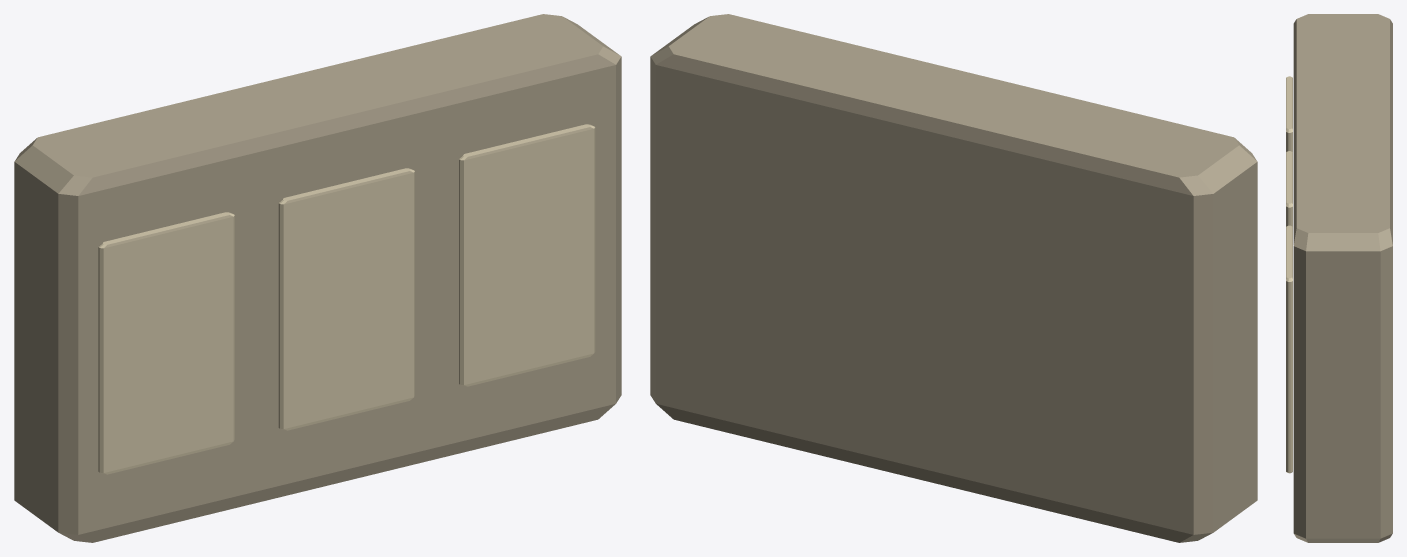
Rendered from SM_RUI_MOD_002_Wall2m.glb.
3 renders of one model, left to right at view 1: azimuth 30°, elevation 25°; view 2: azimuth 150°, elevation 25°; view 3: azimuth 270°, elevation 25°, orthographic. The views are drawn at different scales.
Parts seen in each view (by area): view 1: SM_RUI_MOD_002_Wall2m; view 2: SM_RUI_MOD_002_Wall2m; view 3: SM_RUI_MOD_002_Wall2m.
Boxes of the visible parts, x1=… form: SM_RUI_MOD_002_Wall2m: x1=14, y1=14, x2=621, y2=542; SM_RUI_MOD_002_Wall2m: x1=650, y1=14, x2=1257, y2=542; SM_RUI_MOD_002_Wall2m: x1=1286, y1=14, x2=1392, y2=542.
Bounding box in the file's own units: 2 × 1.24 × 0.3875.
